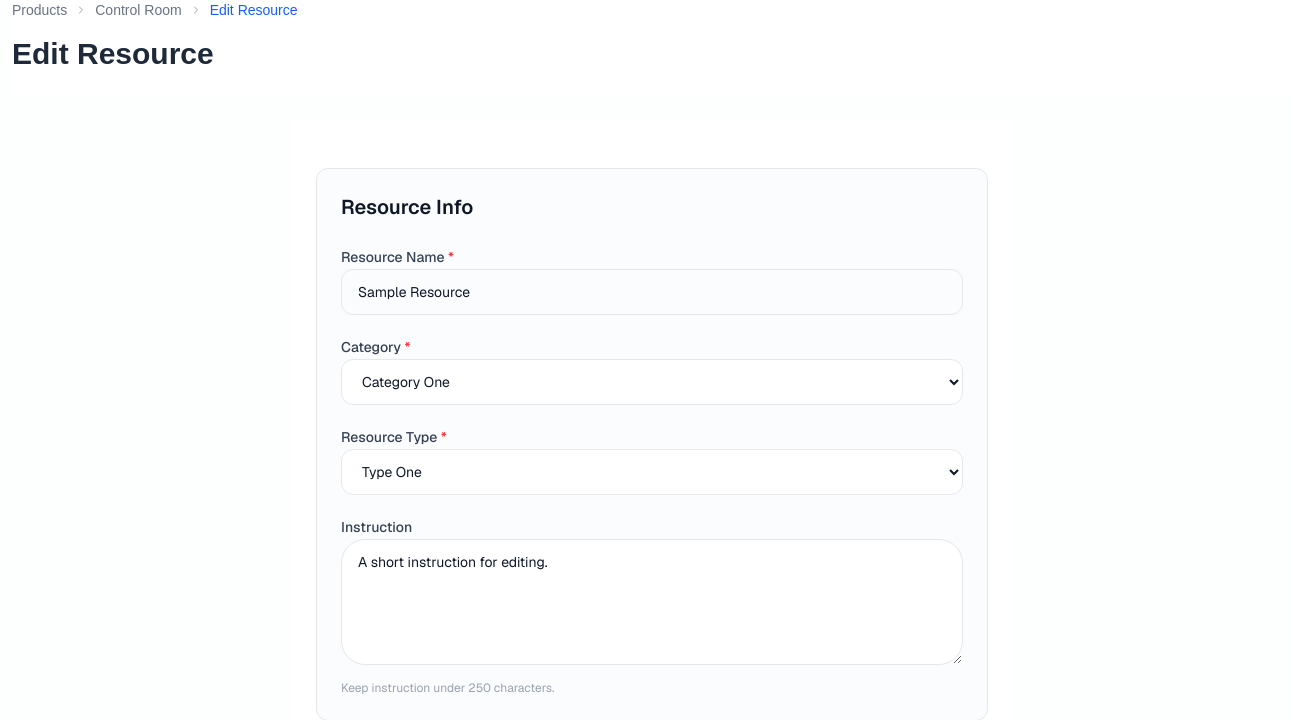
Edit Resource Page › shows a validation error when the required resource name is cleared
Clear the field labelled "Resource Name *" at (652, 292), box x1=341 y1=269 x2=963 y2=315
(page scrolled)
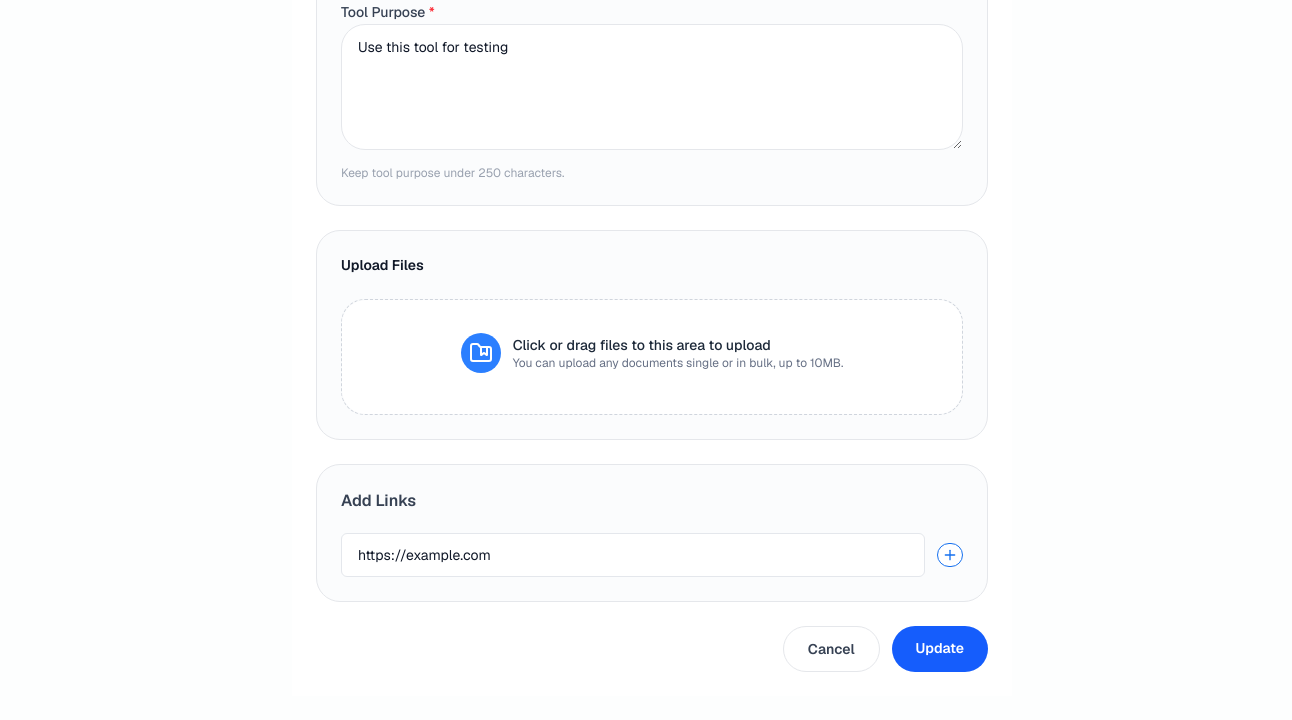
Click the button "Update" at (940, 649), box x1=892 y1=626 x2=988 y2=672
(page scrolled)
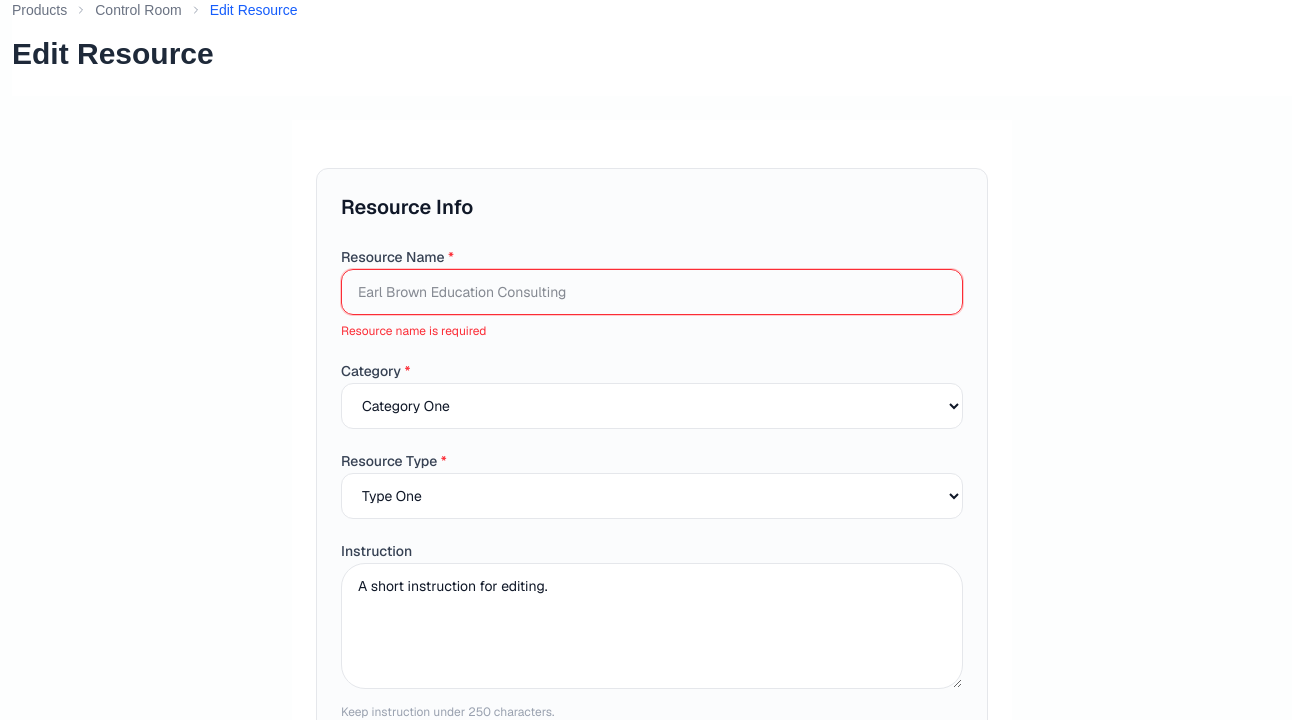
Expected: the text "Resource name is required" is shown, x1=341 y1=323 x2=486 y2=339
